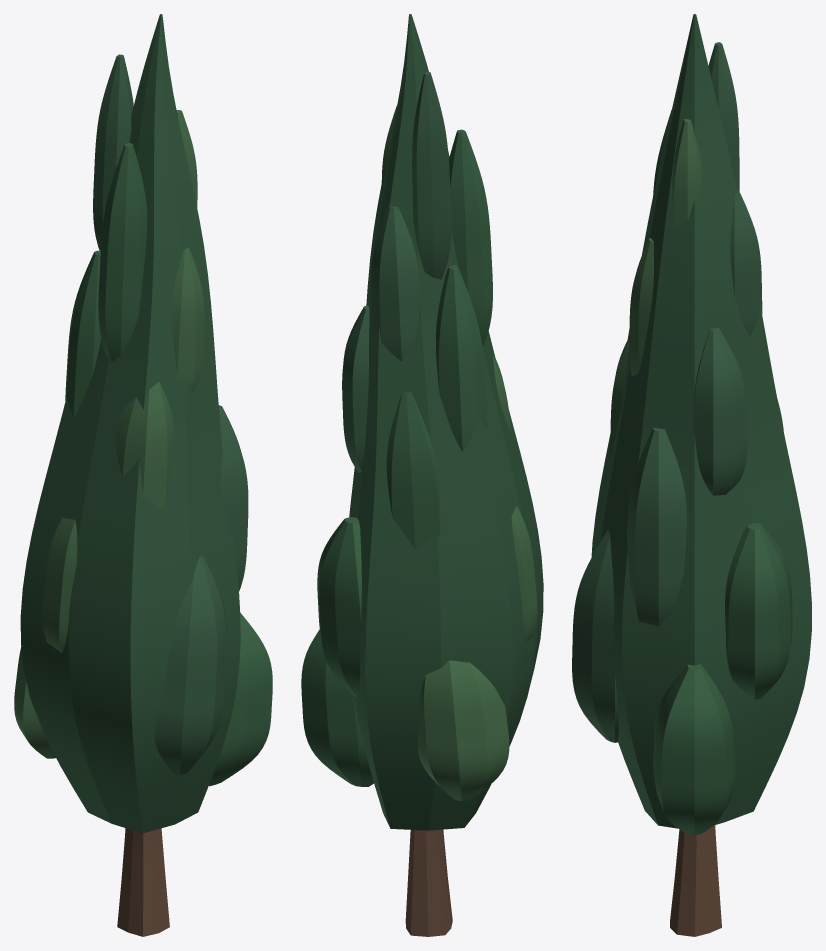
File: italian_cypress.glb
3 views of the same model, side by side, from view 1: azimuth 30°, elevation 25°; view 2: azimuth 150°, elevation 25°; view 3: azimuth 270°, elevation 25° (orthographic).
Visible parts, largest first — view 1: Columnar crown, Ascending foliage 3, Ascending foliage 13, Ascending foliage 1, Ascending foliage 8, Cypress trunk, Ascending foliage 15, Ascending foliage 10, Ascending foliage 11, Ascending foliage 5, Ascending foliage 6, Ascending foliage 2 (+1 smaller); view 2: Columnar crown, Ascending foliage 2, Ascending foliage 10, Ascending foliage 15, Ascending foliage 4, Ascending foliage 7, Ascending foliage 1, Ascending foliage 13, Ascending foliage 12, Cypress trunk, Ascending foliage 9, Ascending foliage 5; view 3: Columnar crown, Ascending foliage 1, Ascending foliage 4, Ascending foliage 6, Ascending foliage 9, Ascending foliage 3, Cypress trunk, Ascending foliage 12, Ascending foliage 14, Ascending foliage 11, Ascending foliage 15, Ascending foliage 8.
Boxes of the visible parts, x1,y1,x2,y2 form: Columnar crown: (20, 14, 240, 833); Ascending foliage 3: (154, 556, 226, 774); Ascending foliage 13: (98, 143, 147, 361); Ascending foliage 1: (209, 613, 272, 786); Ascending foliage 8: (115, 382, 173, 511); Cypress trunk: (117, 828, 169, 936); Ascending foliage 15: (93, 54, 133, 250); Ascending foliage 10: (65, 250, 101, 419); Ascending foliage 11: (171, 247, 204, 393); Ascending foliage 5: (42, 517, 77, 652); Ascending foliage 6: (218, 405, 248, 591); Ascending foliage 2: (14, 647, 55, 758); Columnar crown: (349, 14, 543, 830); Ascending foliage 2: (417, 660, 509, 801); Ascending foliage 10: (436, 265, 487, 451); Ascending foliage 15: (412, 71, 451, 279); Ascending foliage 4: (317, 517, 361, 697); Ascending foliage 7: (386, 392, 440, 549); Ascending foliage 1: (301, 629, 373, 786); Ascending foliage 13: (449, 129, 492, 345); Ascending foliage 12: (371, 205, 419, 361); Cypress trunk: (405, 829, 452, 936); Ascending foliage 9: (342, 305, 369, 473); Ascending foliage 5: (511, 506, 537, 642); Columnar crown: (591, 14, 811, 828); Ascending foliage 1: (653, 664, 734, 834); Ascending foliage 4: (725, 523, 792, 699); Ascending foliage 6: (627, 427, 686, 626); Ascending foliage 9: (693, 327, 747, 495); Ascending foliage 3: (572, 530, 618, 742); Cypress trunk: (670, 825, 721, 936); Ascending foliage 12: (730, 190, 762, 336); Ascending foliage 14: (672, 119, 702, 225); Ascending foliage 11: (629, 238, 653, 375); Ascending foliage 15: (708, 42, 739, 191); Ascending foliage 8: (610, 338, 629, 458).
Bounding box in the file's own units: 2.15 × 8.38 × 1.98.
